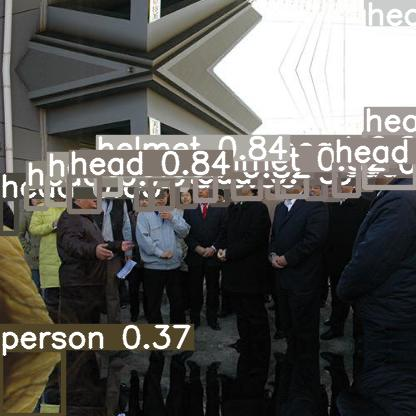head: (364, 132, 415, 187), (69, 175, 99, 211), (277, 160, 306, 196), (233, 167, 260, 198), (334, 163, 358, 195), (150, 178, 172, 208), (47, 177, 68, 204), (0, 198, 16, 233), (306, 174, 325, 198), (26, 186, 46, 208), (357, 162, 372, 189), (267, 172, 283, 197), (177, 184, 195, 206), (366, 0, 410, 8), (136, 188, 152, 209), (323, 177, 338, 199), (226, 174, 239, 199), (211, 185, 227, 204), (171, 171, 186, 189)
helmet: (96, 160, 120, 194), (195, 171, 215, 200)
person: (0, 349, 63, 415)
